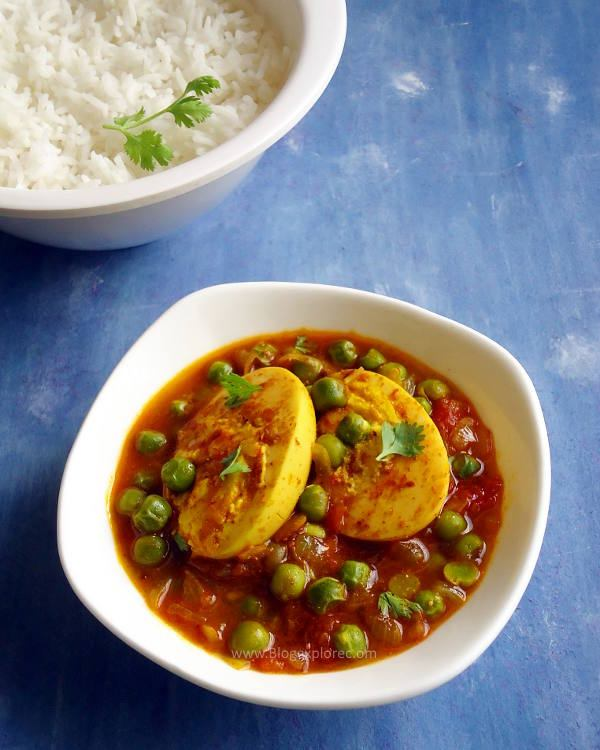boiled peas: (315, 564, 445, 655), (137, 502, 172, 565), (225, 613, 264, 656), (273, 565, 310, 597), (315, 435, 349, 468), (313, 376, 345, 411), (296, 484, 328, 519), (337, 415, 371, 445), (160, 459, 192, 490), (136, 429, 163, 450)
boiled potatoes: (316, 388, 442, 522), (203, 388, 299, 541)
plain rice: (1, 1, 255, 167)
